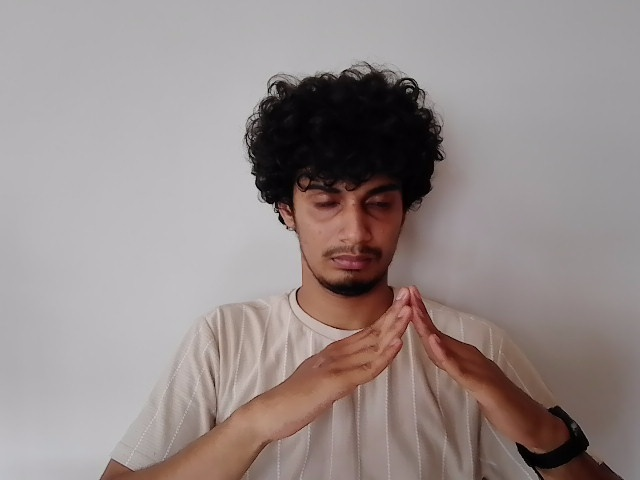home: (256, 288, 545, 432)
